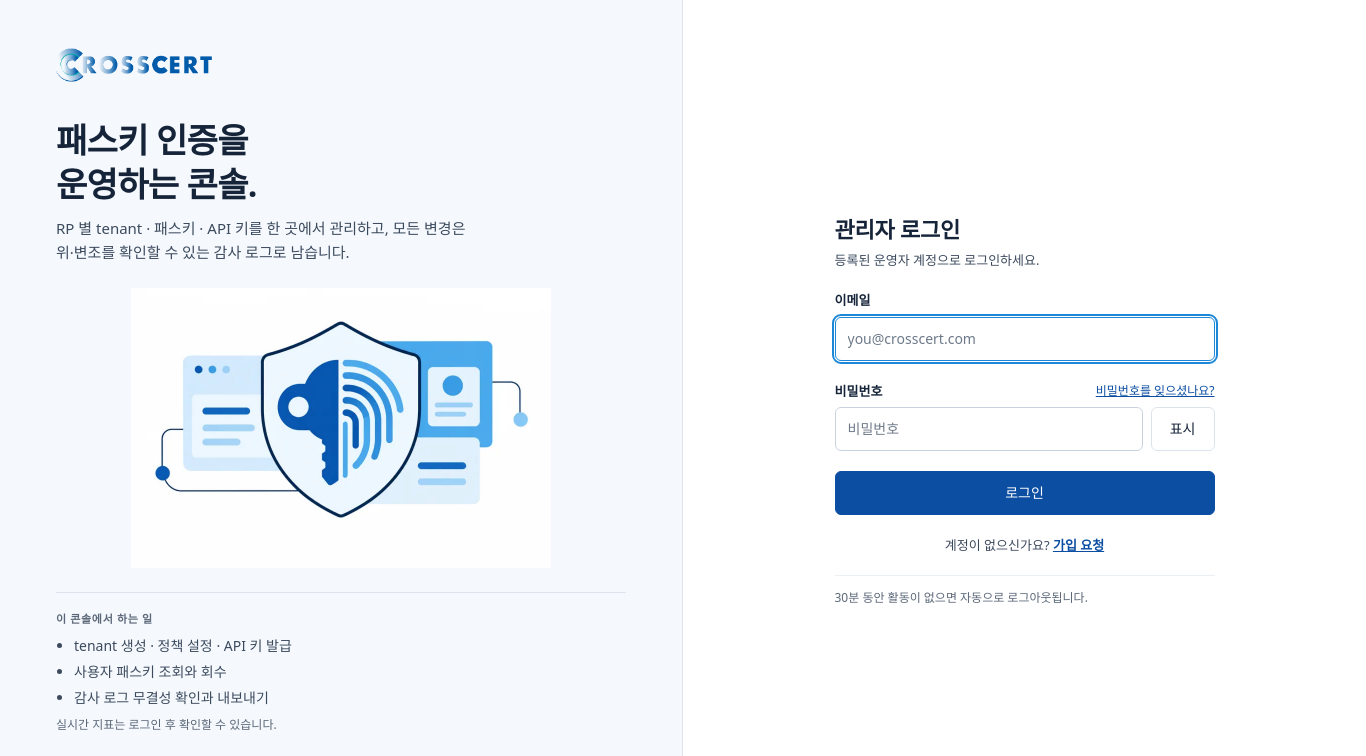
Test: LoginPage V3 › 네트워크 오류(fetch TypeError)도 일시 오류
In the field labelled "이메일": (1024, 339) [834, 317, 1214, 361], type "a@x.com"
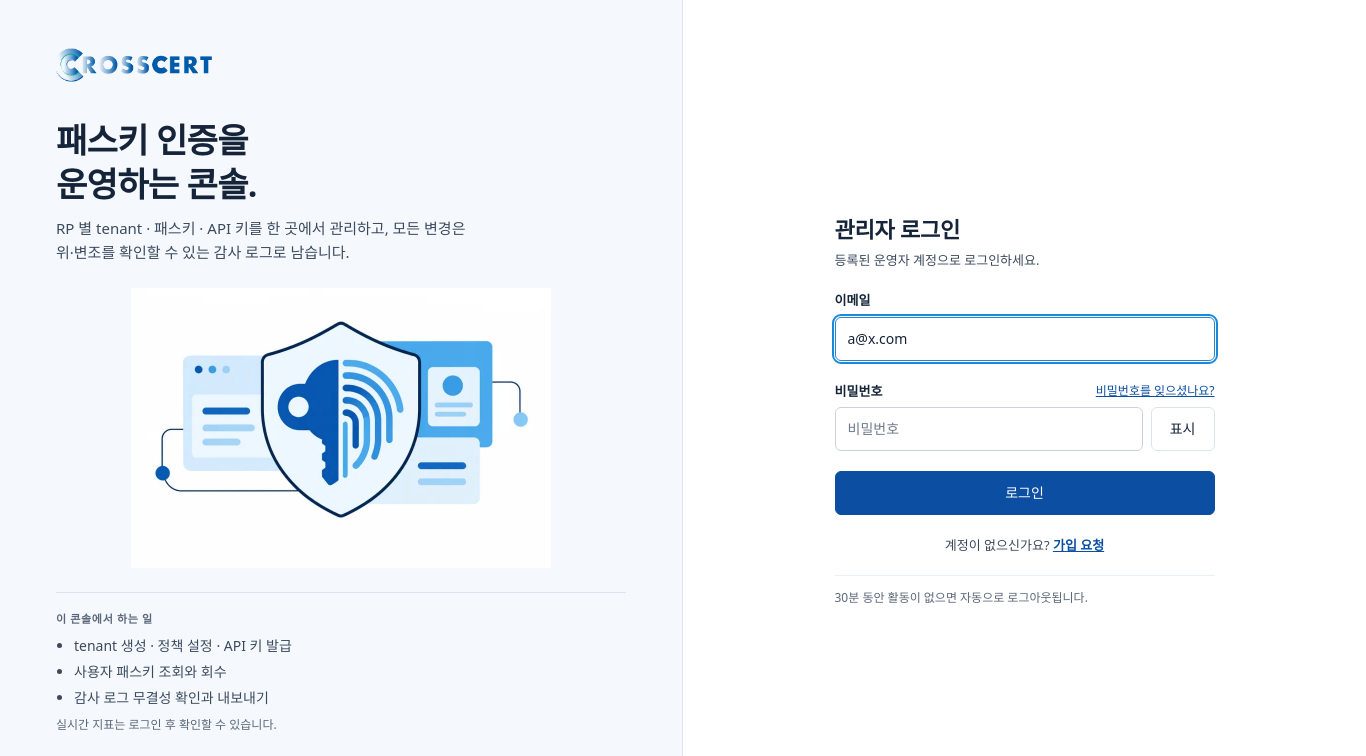
In the password field labelled "비밀번호": (989, 429) [834, 407, 1143, 451], type "pw"
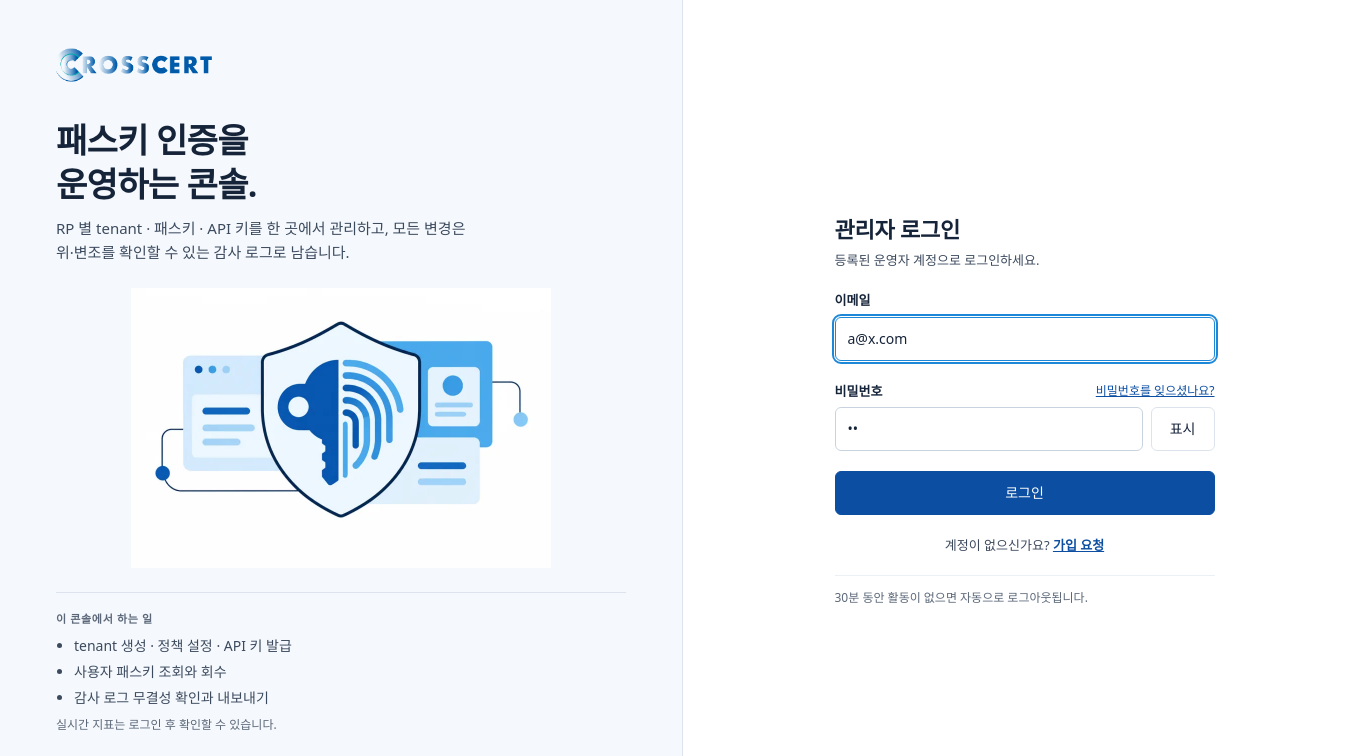
Click the button "로그인": (1024, 493) [834, 471, 1214, 515]
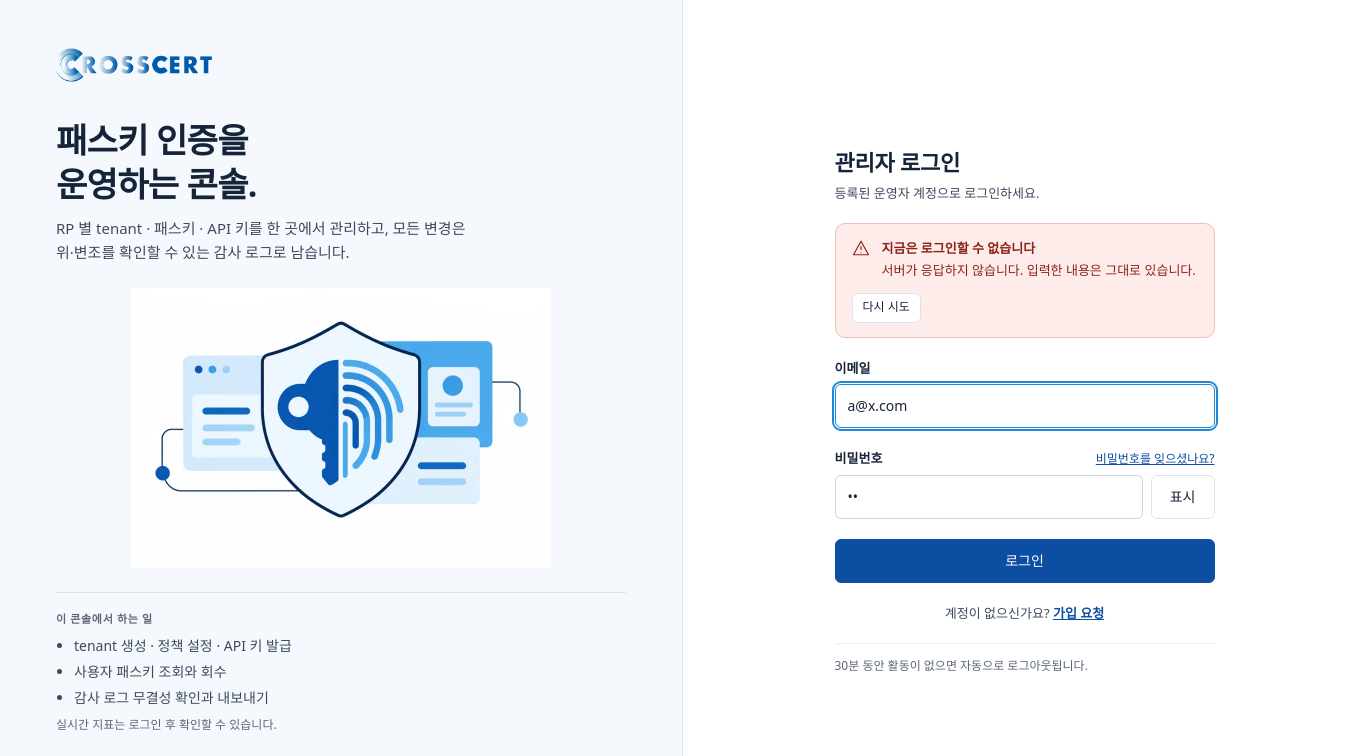
Expected: the message shows "지금은 로그인할 수 없습니다", [882, 239, 1035, 257]
